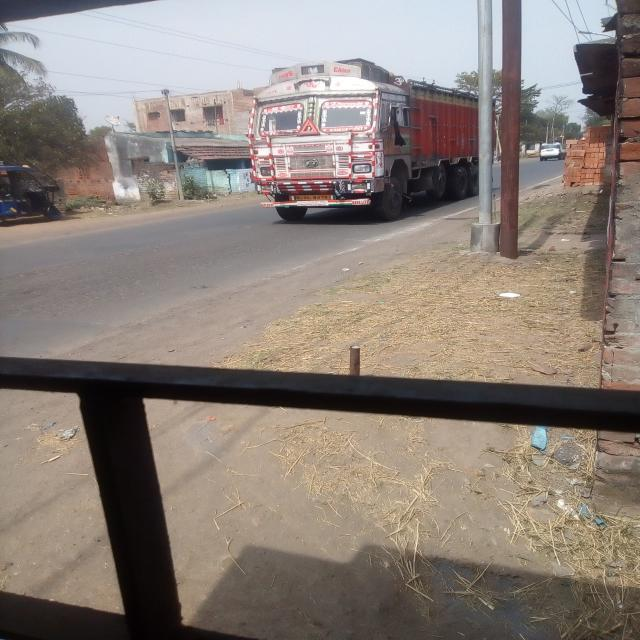car_back: (532, 134, 566, 164)
truck_front: (245, 49, 502, 227)
